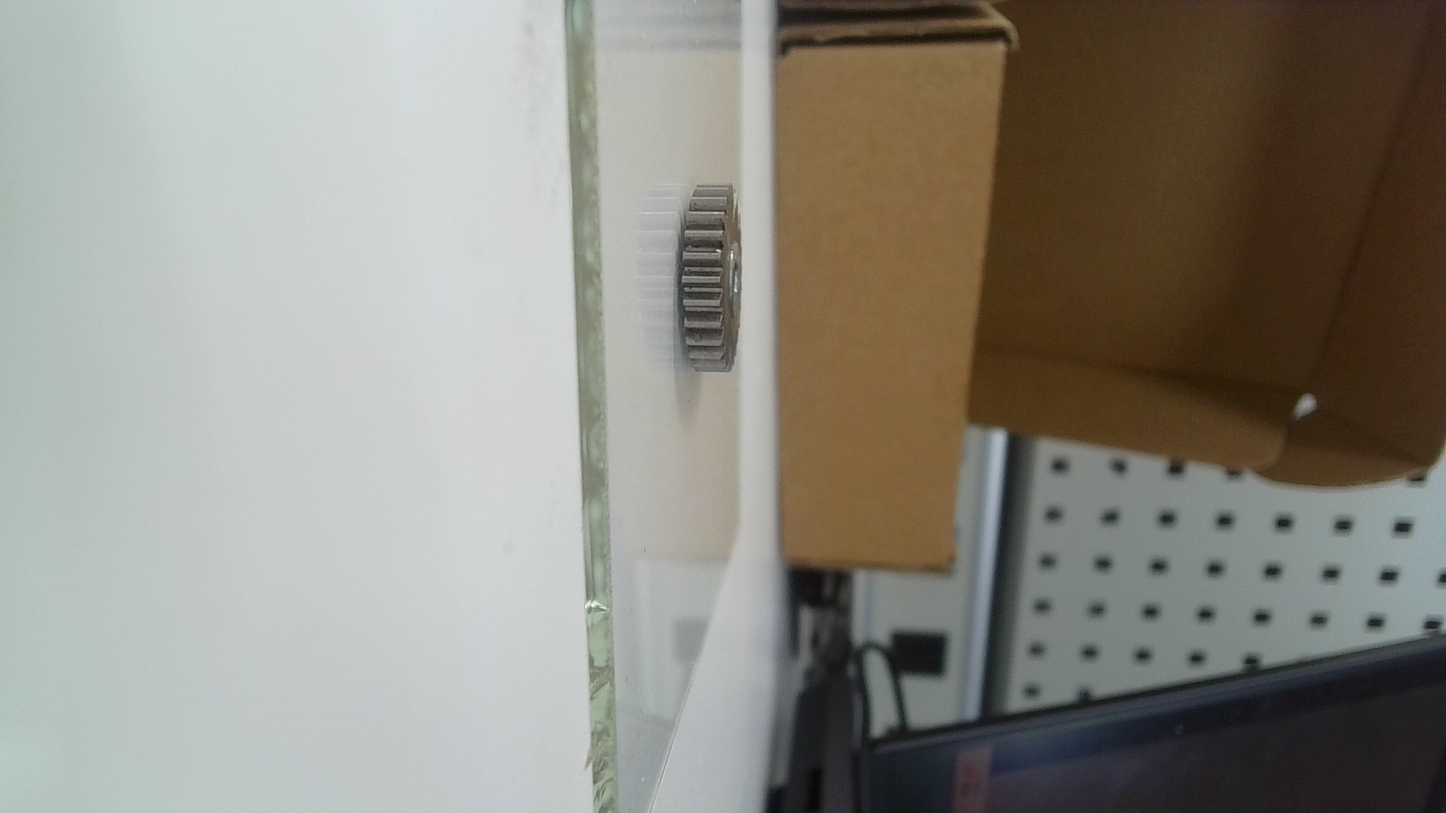gear: (672, 177, 750, 375)
